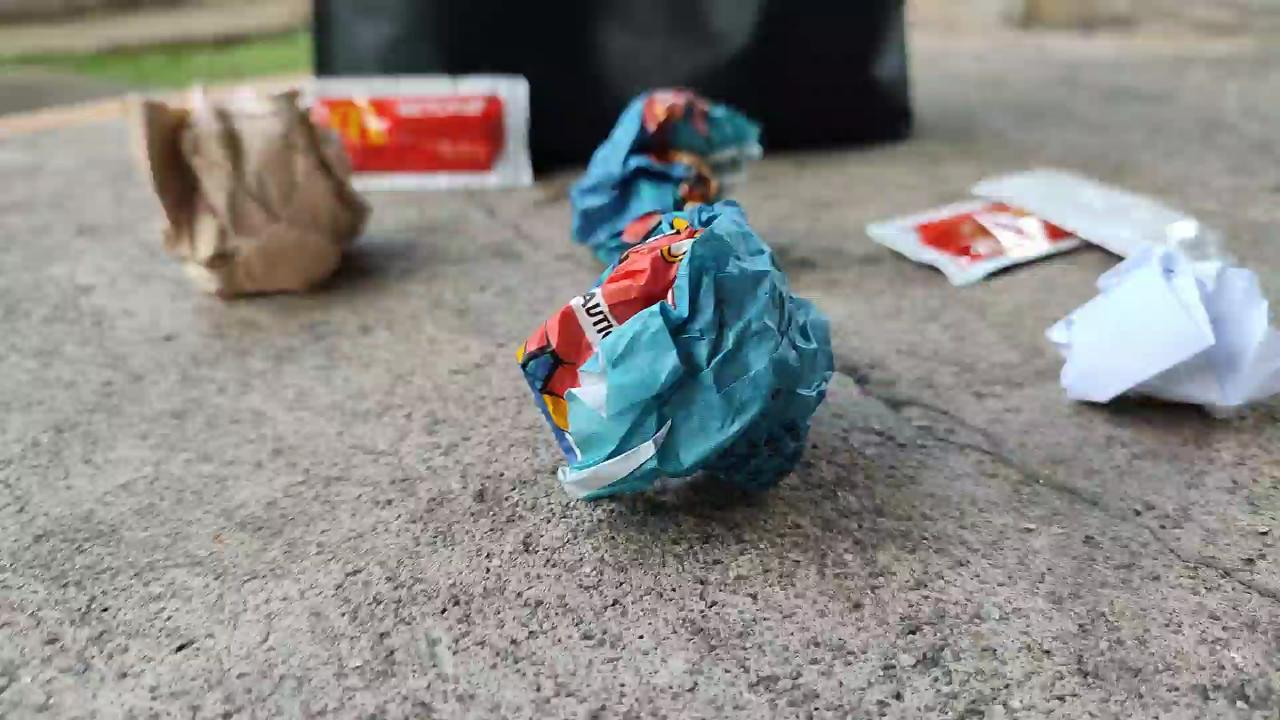paper: (518, 200, 831, 498), (142, 88, 367, 294), (1047, 245, 1279, 410), (570, 88, 761, 262)
